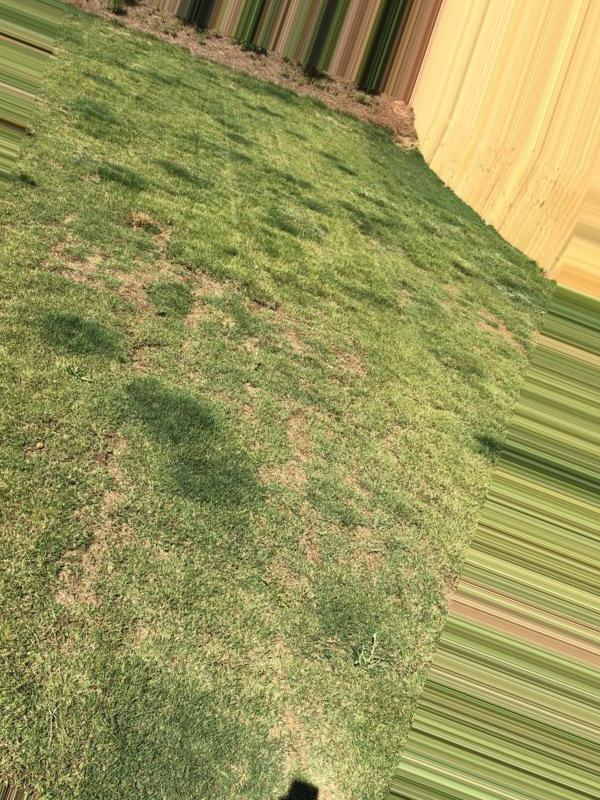patch: (128, 204, 295, 335), (125, 539, 286, 664), (109, 367, 266, 492), (328, 471, 450, 595), (331, 291, 368, 401), (466, 285, 523, 319), (283, 417, 320, 460)
